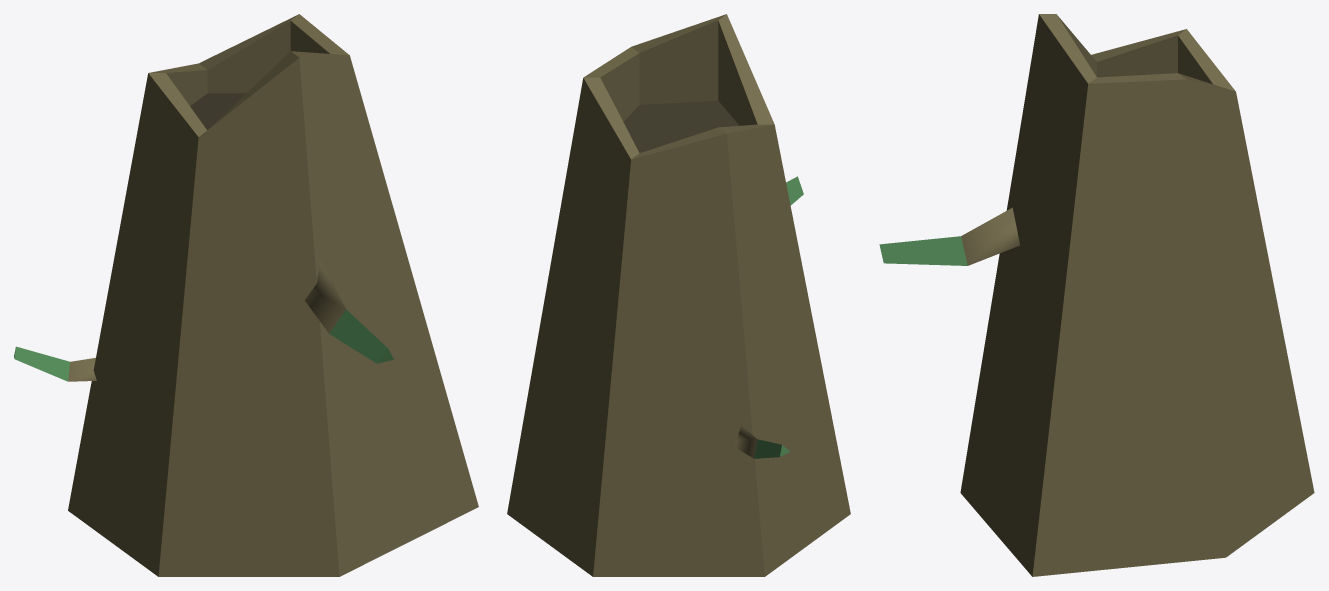
The model's file is tronco arbol.fbx.
3 views of the same model, side by side, from view 1: azimuth 30°, elevation 25°; view 2: azimuth 150°, elevation 25°; view 3: azimuth 270°, elevation 25° (orthographic). The views are drawn at different scales.
Visible parts, largest first — view 1: Trunk_01; view 2: Trunk_01; view 3: Trunk_01.
Boxes of the visible parts, x1,y1,x2,y2 form: Trunk_01: [14, 14, 478, 576]; Trunk_01: [507, 14, 850, 576]; Trunk_01: [879, 14, 1314, 576].
Size of the model in its own units: 9020 by 11991 by 9873.
